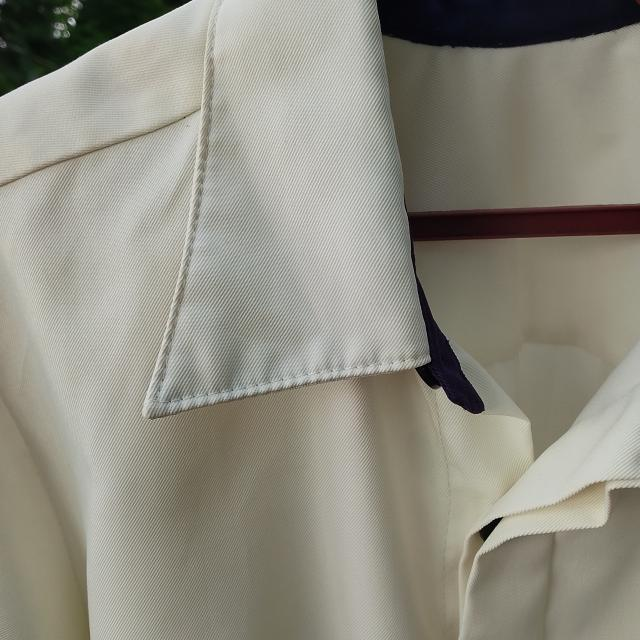education_male_uniform: (10, 6, 640, 587)
